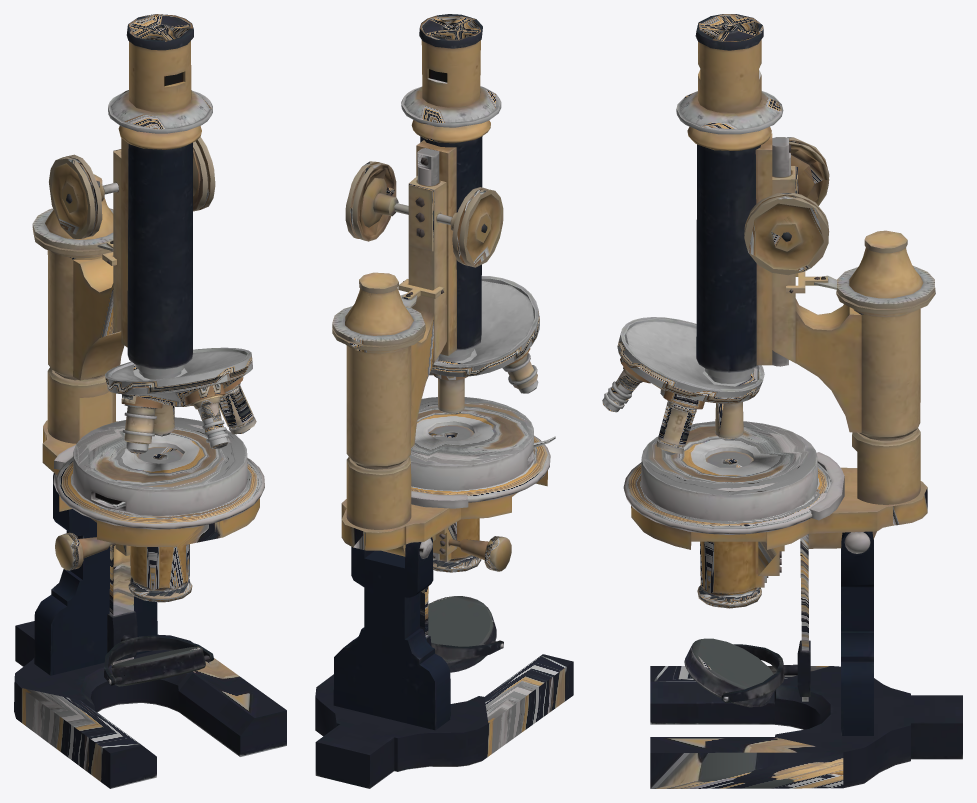
Rendered from microscope.glb.
The picture shows the model from 3 angles, left to right: view 1: azimuth 30°, elevation 25°; view 2: azimuth 150°, elevation 25°; view 3: azimuth 270°, elevation 25°; orthographic projection. The views are drawn at different scales.
Visible parts, largest first — view 1: vintage_microscope_mirror_arm, vintage_microscope_mirror_base; view 2: vintage_microscope_mirror_arm, vintage_microscope_mirror_base; view 3: vintage_microscope_mirror_arm, vintage_microscope_mirror_base.
Boxes of the visible parts, x1=… form: vintage_microscope_mirror_arm: x1=14, y1=14, x2=286, y2=788; vintage_microscope_mirror_base: x1=111, y1=646, x2=205, y2=686; vintage_microscope_mirror_arm: x1=315, y1=14, x2=573, y2=788; vintage_microscope_mirror_base: x1=428, y1=596, x2=493, y2=661; vintage_microscope_mirror_arm: x1=602, y1=14, x2=962, y2=788; vintage_microscope_mirror_base: x1=687, y1=638, x2=773, y2=707.
Size of the model in its own units: 0.1068 by 0.3996 by 0.1818.
Materials: 2 (2 with a texture image).
